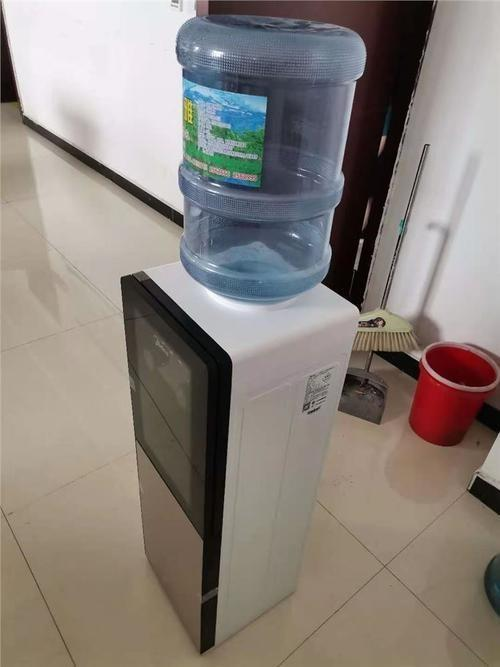Dispenser: (119, 14, 361, 655)
